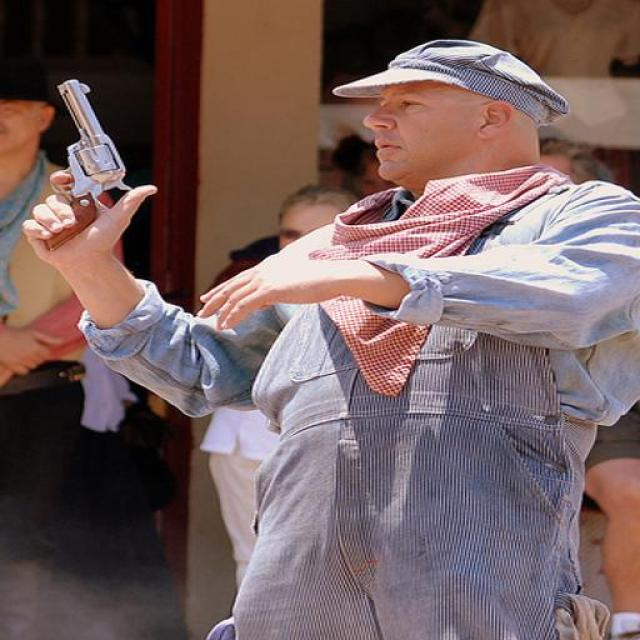pistol: (33, 78, 131, 253)
